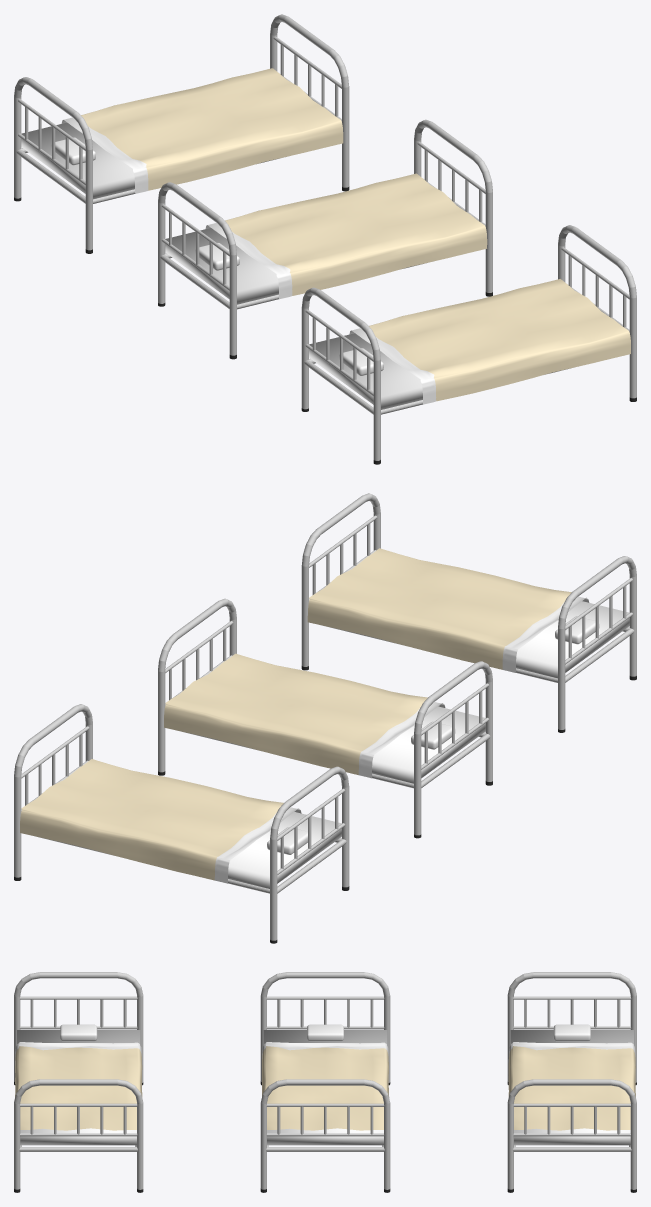
File: InfirmaryBed.fbx
The picture shows the model from 3 angles, top to bottom: view 1: azimuth 30°, elevation 25°; view 2: azimuth 150°, elevation 25°; view 3: azimuth 270°, elevation 25°; orthographic projection. The views are drawn at different scales.
Parts seen in each view (by area): view 1: 007.bed; view 2: 007.bed; view 3: 007.bed.
Part boxes in pixels (<box>): 007.bed: <box>14,14,636,464</box>; 007.bed: <box>14,493,636,943</box>; 007.bed: <box>14,972,636,1192</box>.
Size of the model in its own units: 211 by 100 by 505.
